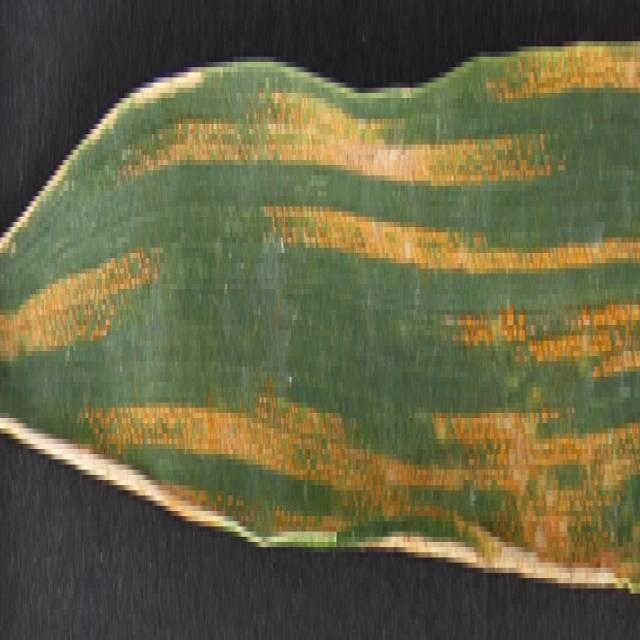leaf rust: (1, 41, 640, 537)
